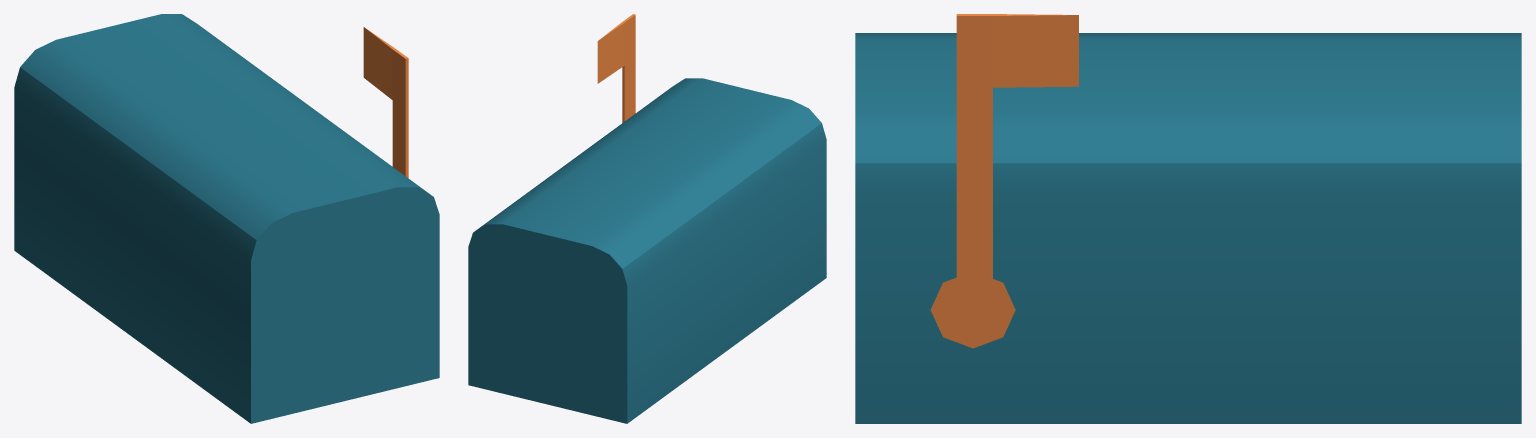
Rendered from mailbox_04.fbx.
3 renders of one model, left to right at view 1: azimuth 30°, elevation 25°; view 2: azimuth 150°, elevation 25°; view 3: azimuth 270°, elevation 25°, orthographic. The views are drawn at different scales.
Parts seen in each view (by area): view 1: mailbox_04; view 2: mailbox_04; view 3: mailbox_04.
Part boxes in pixels (bbox=[...]): mailbox_04: bbox=[14, 14, 439, 423]; mailbox_04: bbox=[468, 14, 826, 423]; mailbox_04: bbox=[855, 14, 1521, 423].
Size of the model in its own units: 0.2799 by 0.4035 by 0.5924.
